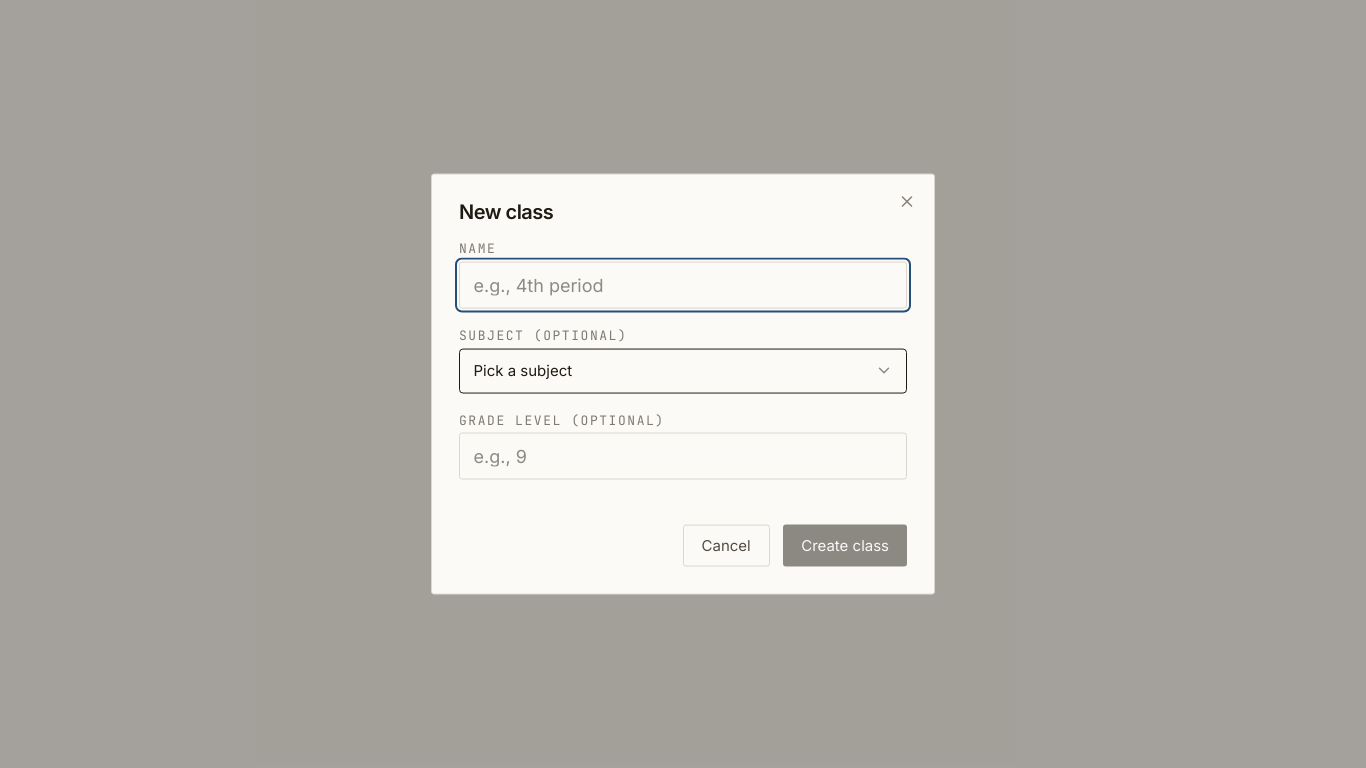
Test case: ClassFormDialog › disables submit until name has content
The width and height of the screenshot is (1366, 768).
Expected: the button "Create class" is disabled, left=783, top=525, right=907, bottom=566
Type "Period 4" into the field with placeholder "e.g., 4th period" at x=683, y=285, box left=459, top=261, right=907, bottom=308
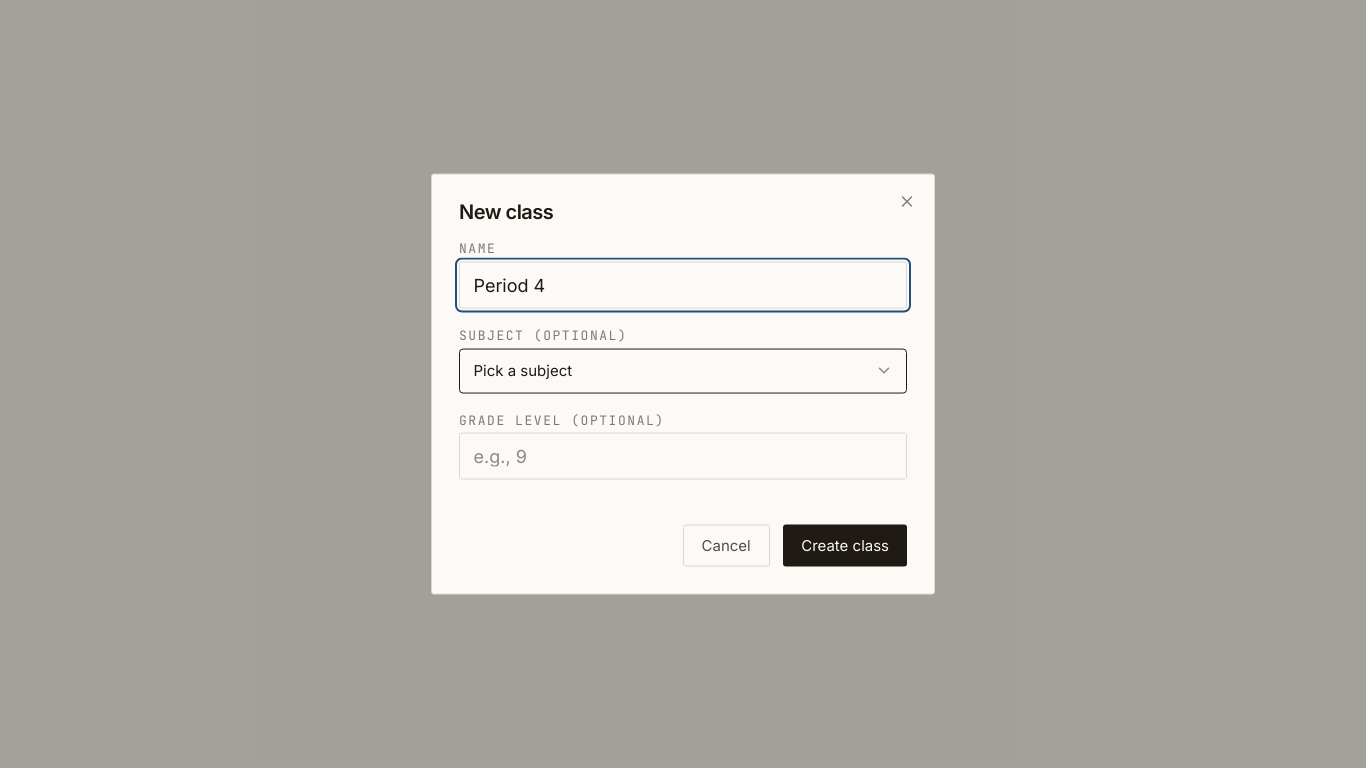
Now the button "Create class" is enabled, box left=783, top=525, right=907, bottom=566
